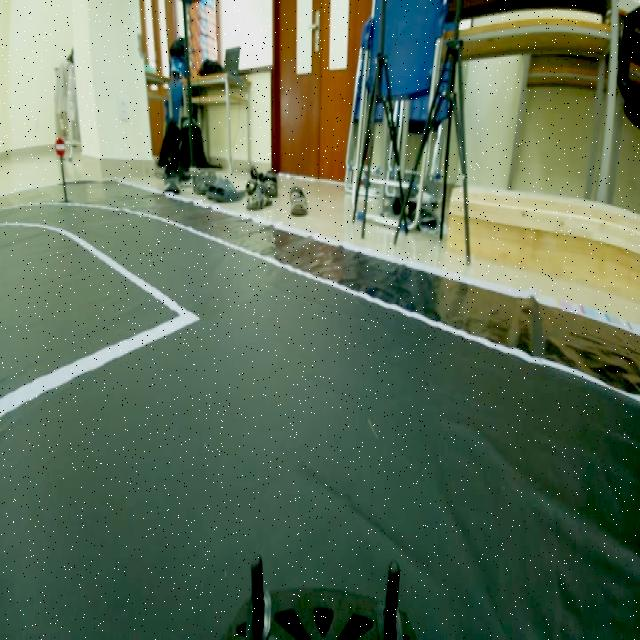no_entry: (52, 136, 70, 158)
